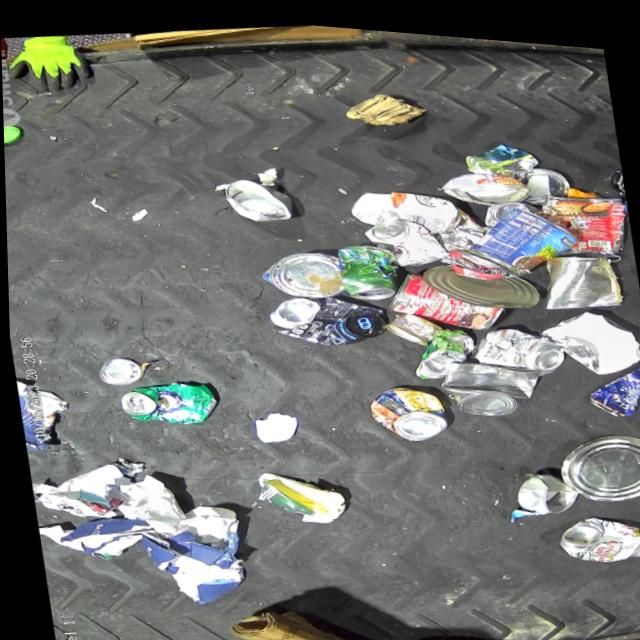can: (458, 187, 583, 277), (382, 251, 506, 333), (263, 277, 386, 349), (434, 340, 545, 415), (419, 243, 539, 309), (551, 413, 640, 499), (539, 175, 628, 251), (467, 309, 565, 374), (534, 235, 623, 305), (114, 370, 217, 430), (364, 371, 448, 440), (552, 496, 640, 560), (360, 204, 448, 266), (256, 238, 342, 298), (437, 155, 532, 204), (333, 234, 400, 299), (216, 166, 291, 223), (407, 315, 477, 375), (578, 348, 640, 411), (512, 456, 580, 508), (381, 299, 442, 343), (516, 152, 571, 197), (479, 187, 540, 220), (94, 351, 142, 385), (443, 626, 539, 640)
